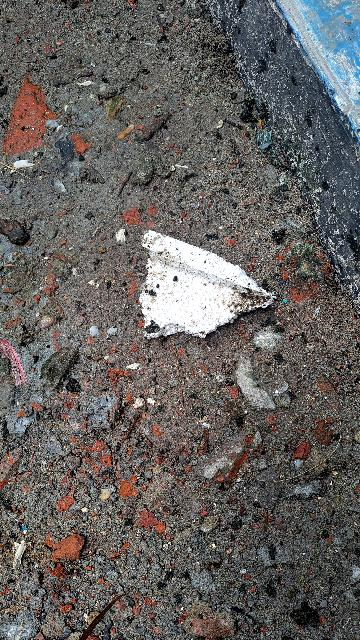cocksheet: (99, 183, 293, 379)
